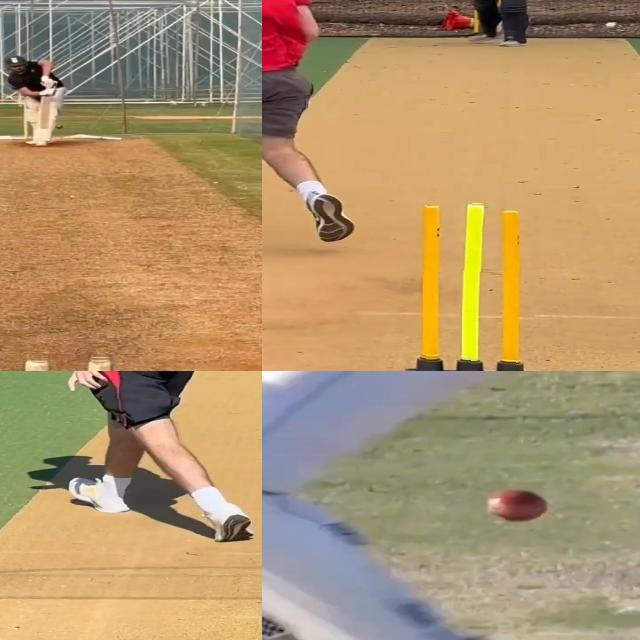Cricket ball: (482, 487, 554, 522), (605, 22, 617, 29), (54, 125, 64, 129)
Stumps: (404, 202, 535, 371)
